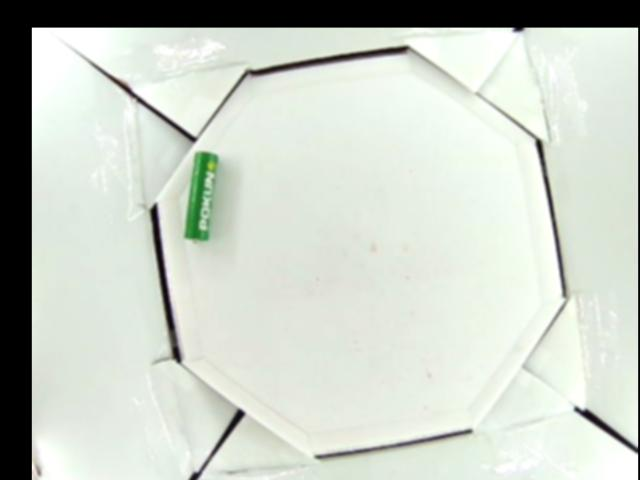Battery: (183, 149, 219, 245)
